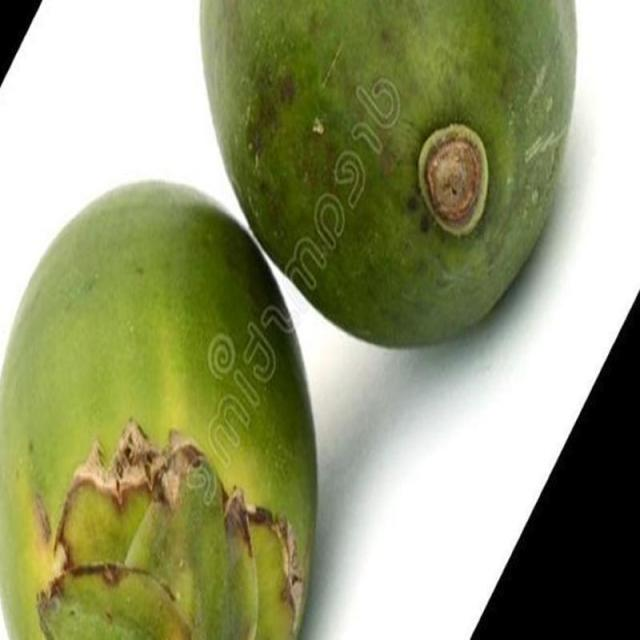good: (0, 180, 318, 639), (197, 0, 578, 351)
